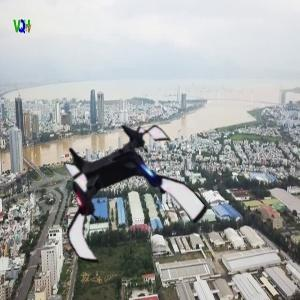drone: (45, 119, 200, 274)
